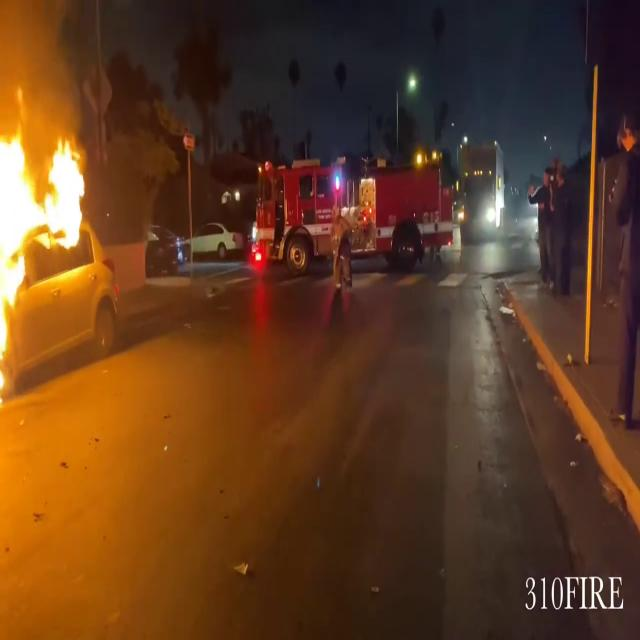Fire: (0, 92, 97, 417)
Smoke: (0, 0, 84, 134)
